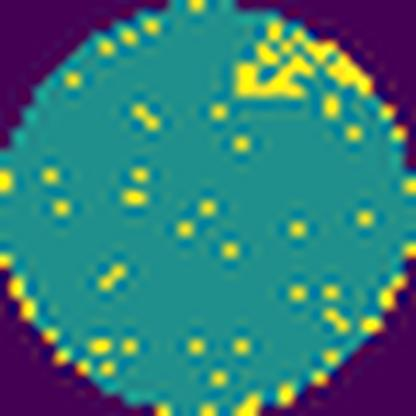Loc: (235, 24, 369, 98)
